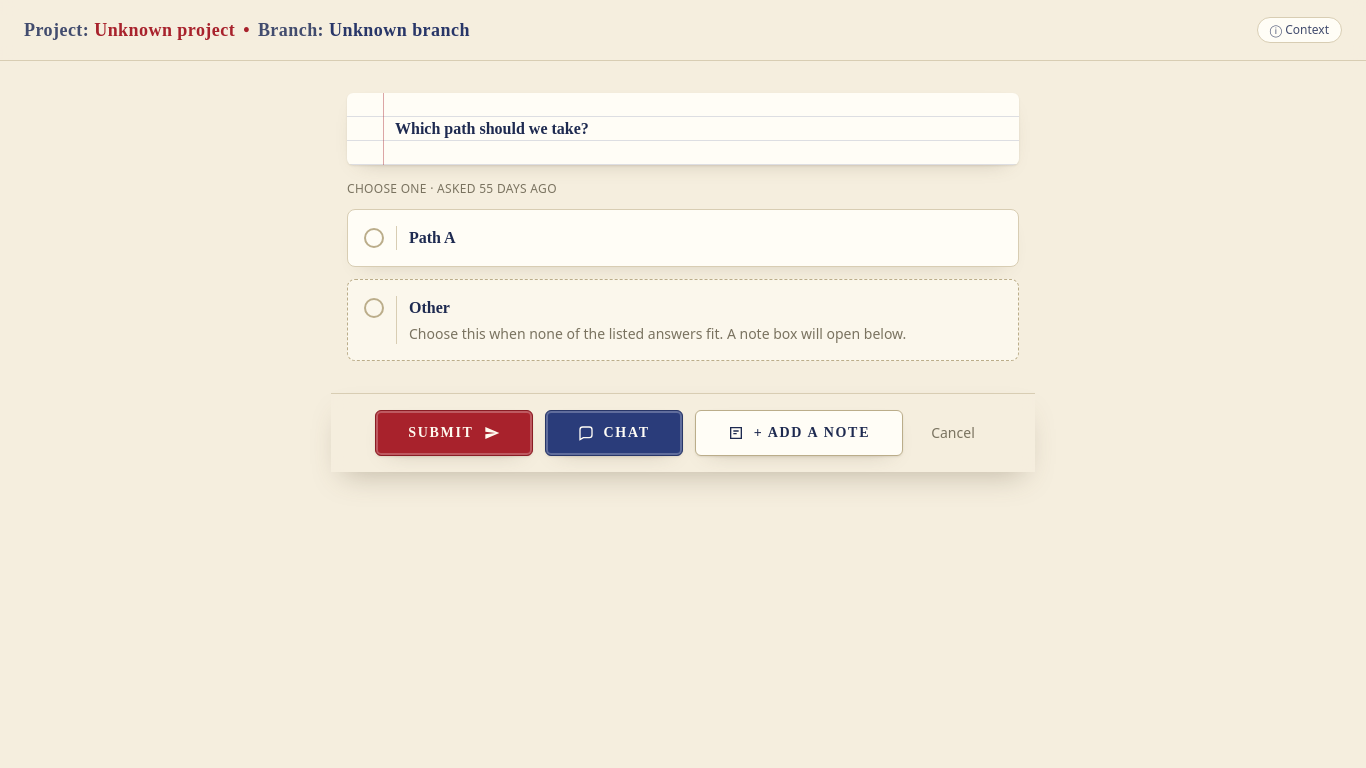
Scenario: responsive Question Chat workspace › adds a fixed responsive desktop sidebar and hide/reopens presentation without lifecycle commands
Step 1. Click the button "Chat" → click(614, 433), box [545,410,683,456]
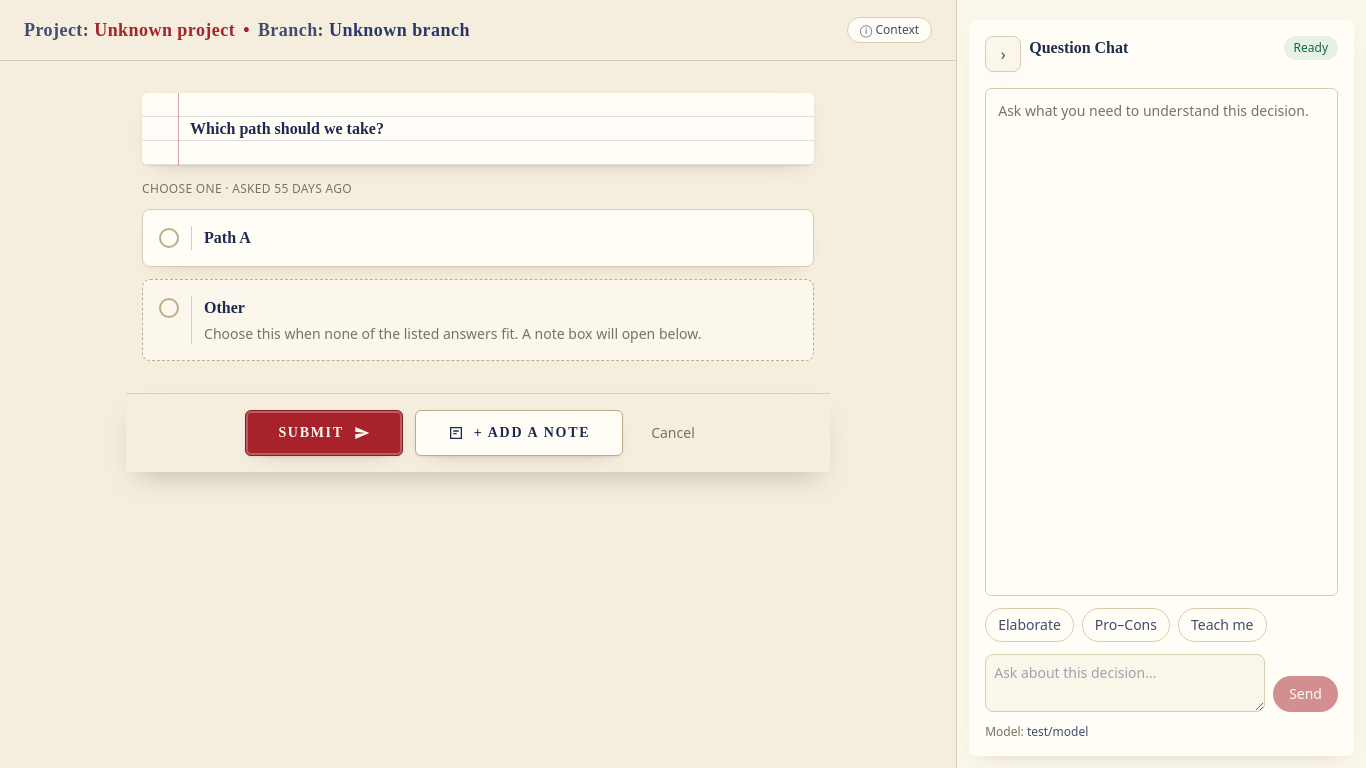
Result: the button named "Hide Question Chat" reads "›"
Step 2. Click the button named "Hide Question Chat" → click(1003, 54), box [985,36,1021,72]
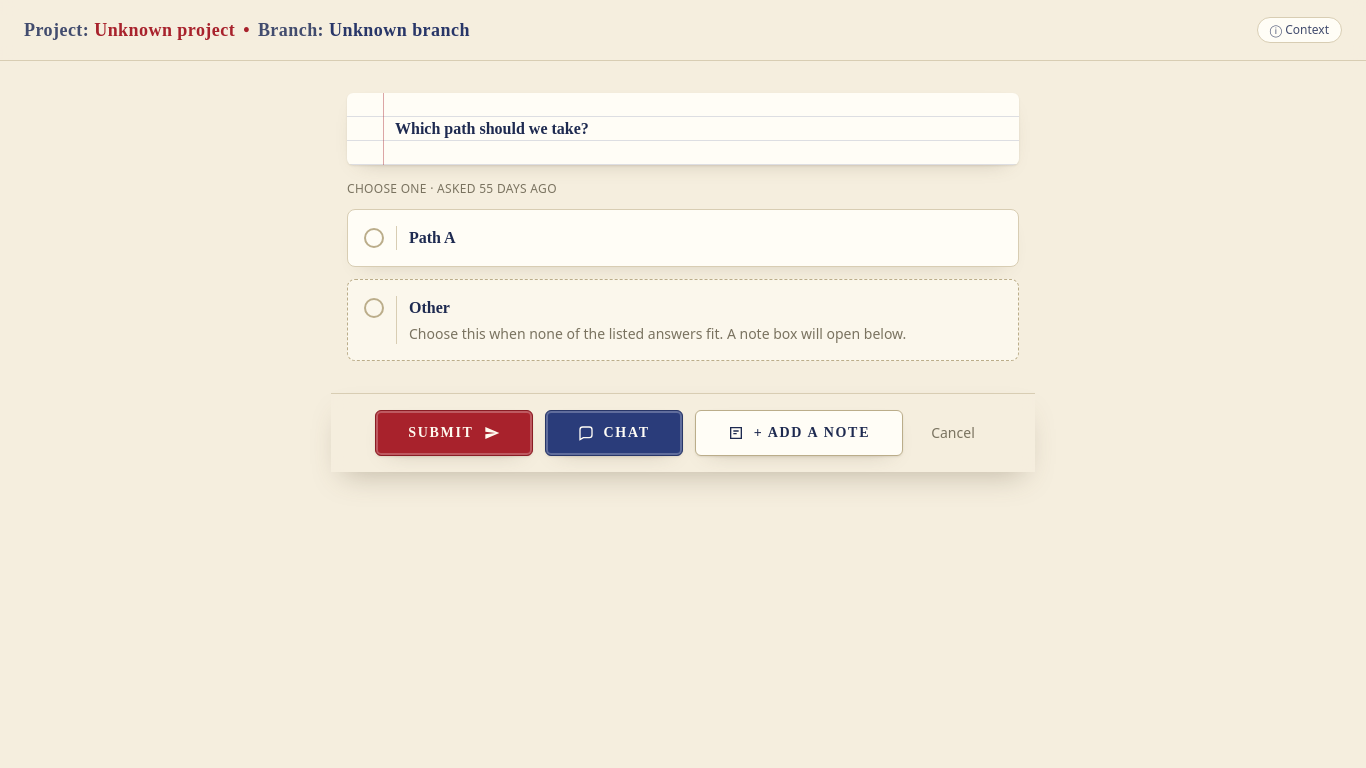
Step 3. Click the button "Chat" → click(614, 433), box [545,410,683,456]
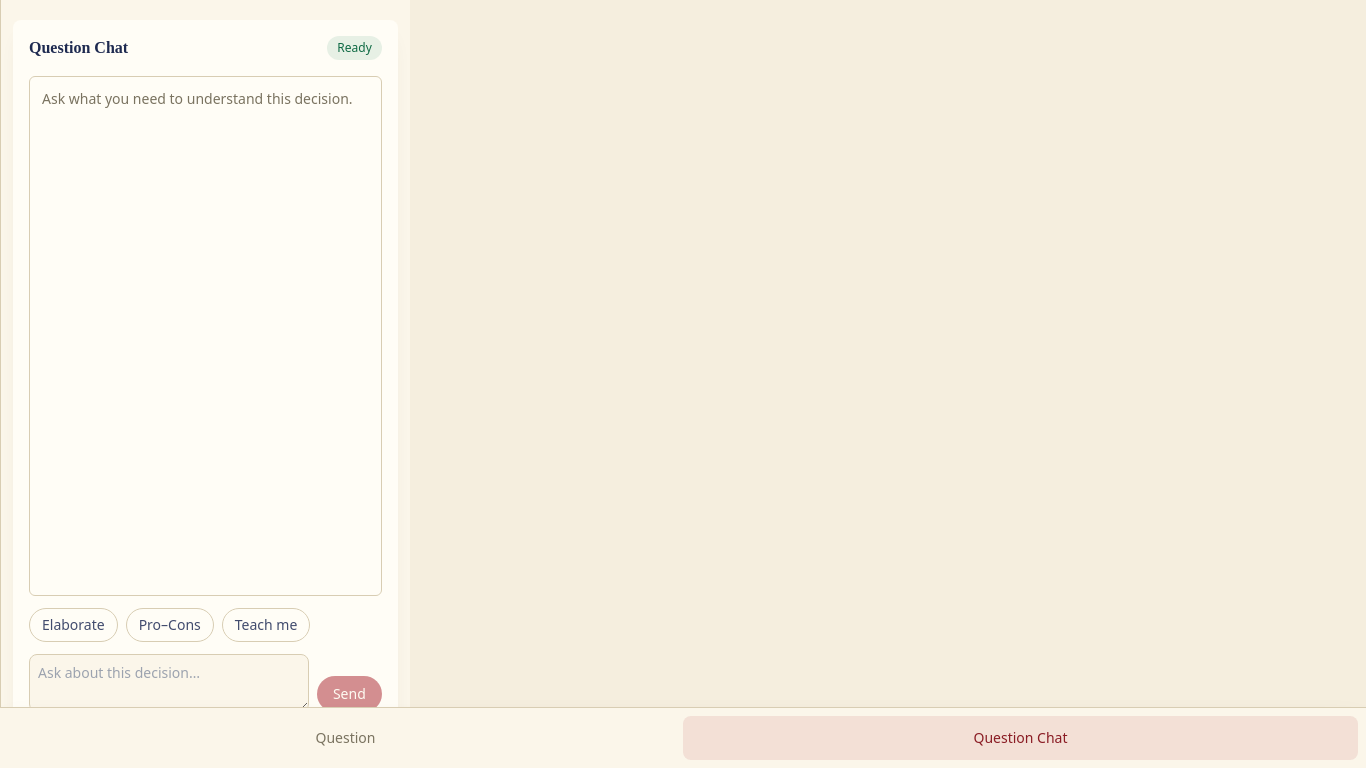
Result: the panel named "Question Chat sidebar" is shown at [0,0,410,767]
Result: the element named "Question workspace" is shown at [0,707,1365,767]
